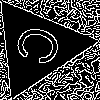C: (12, 22, 73, 73)
